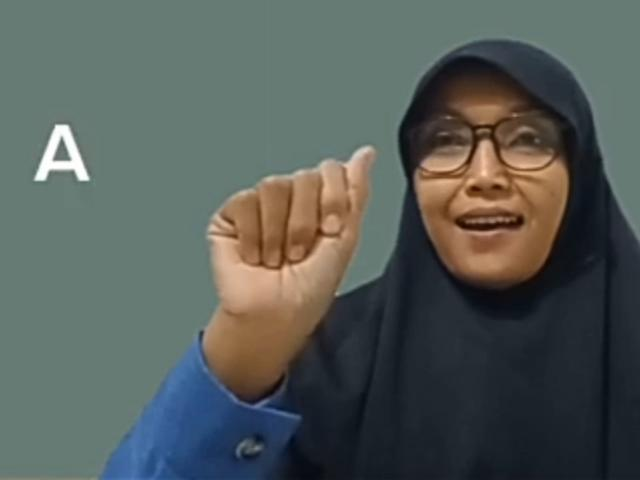A: (208, 143, 378, 333)
